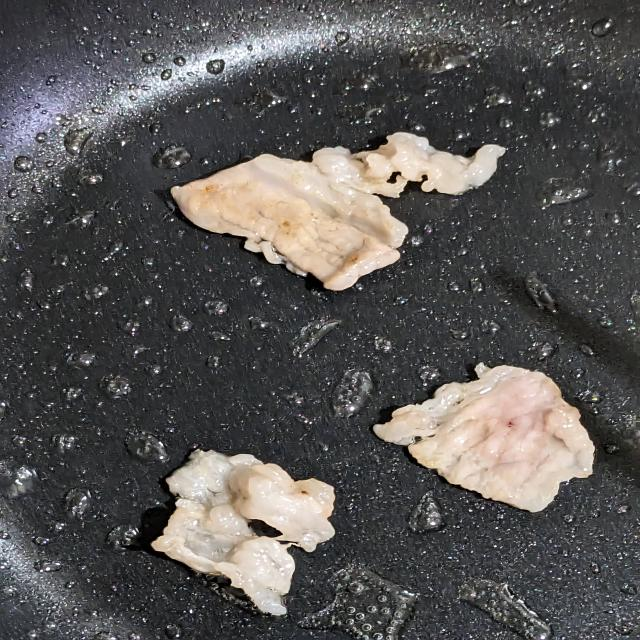NG undercooked pork,: (354, 343, 614, 527)
OK cooked pork,: (161, 123, 541, 304), (148, 421, 362, 630)
